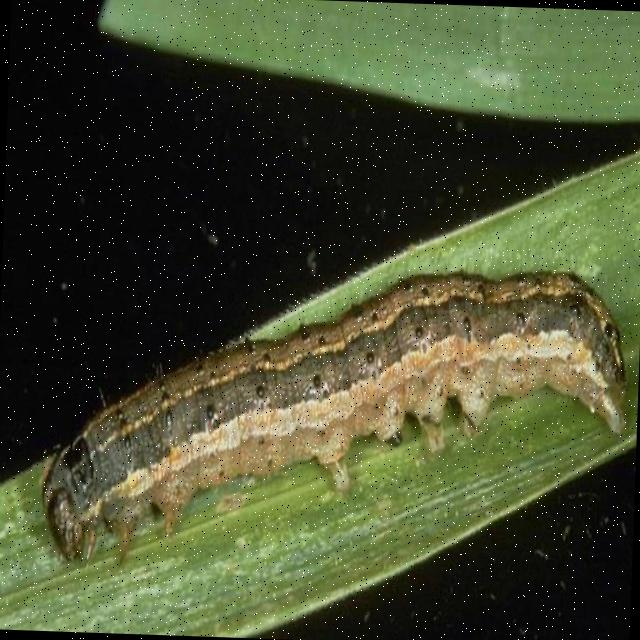worm: (37, 251, 633, 587)
